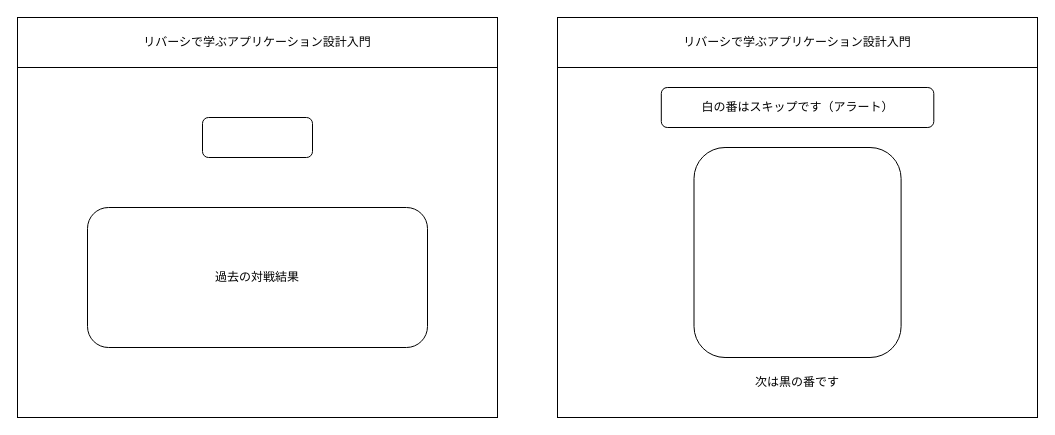
Image size: 1055x435. Some labels were removed from this diagram. The centre of each missing label's shape, as x and y in pixels:
対戦する: [257,137]
盤面: [797,252]
